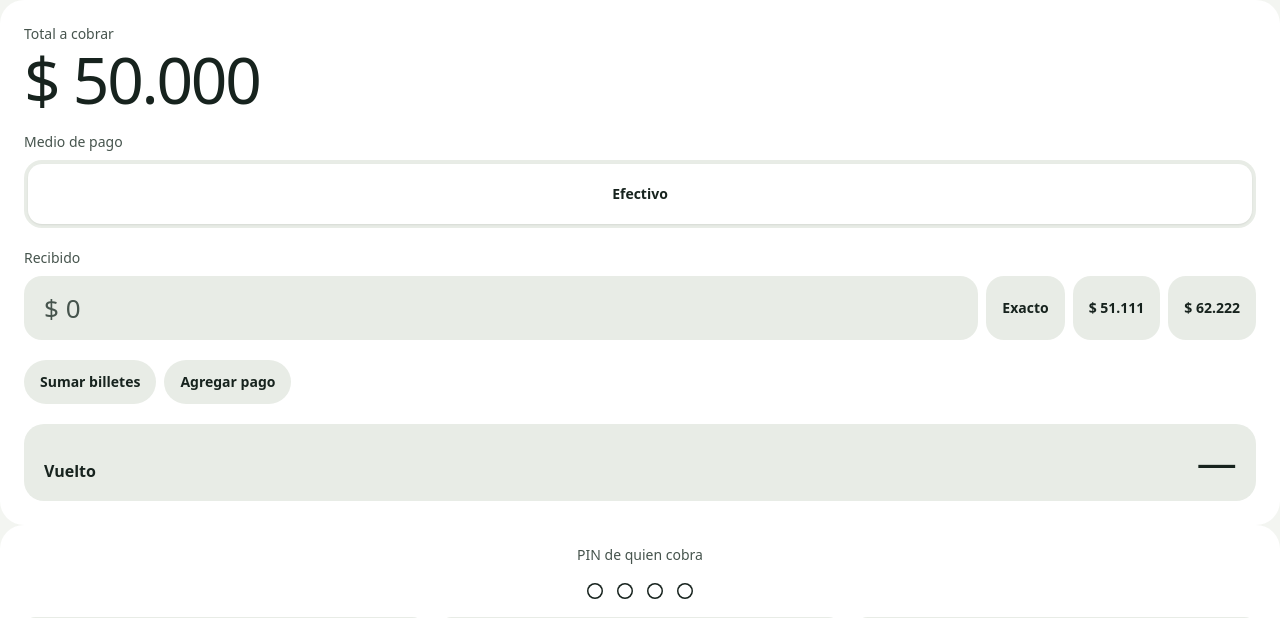
Test case: PaymentSplitsForm — el vuelto antes de cobrar › pinta el vuelto que calcula el servidor, sin hacer la cuenta en la pantalla
Click the button "Sumar billetes": [90, 382] box [24,360,156,404]
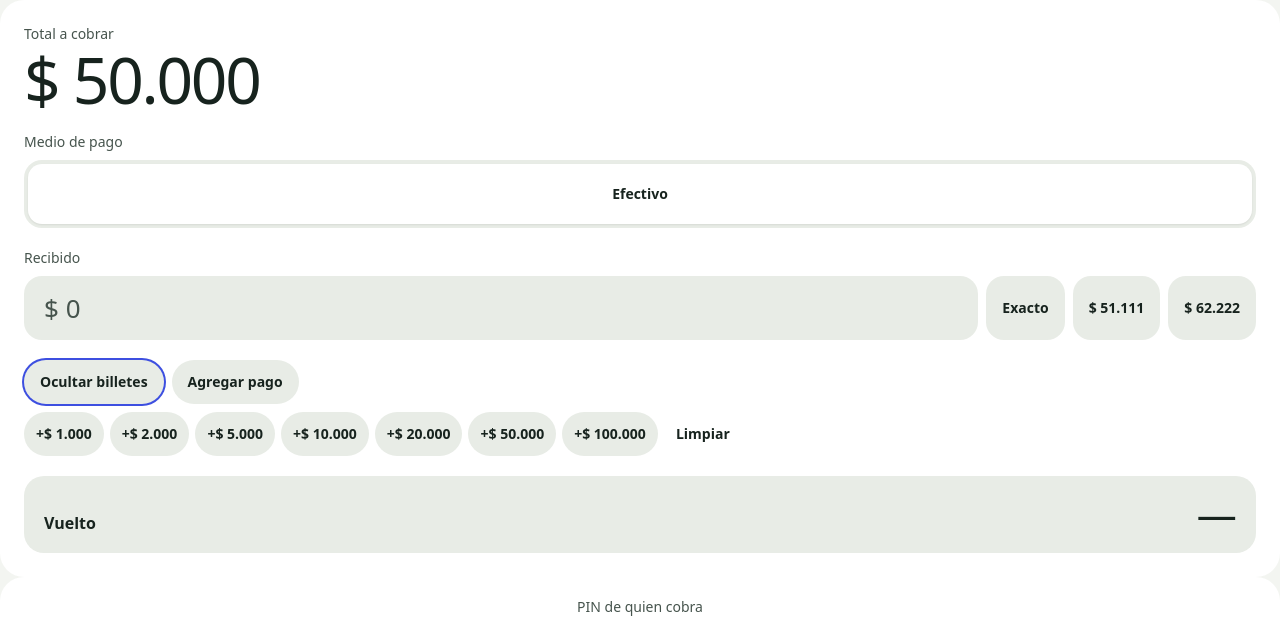
Click the button "+$ 100.000": [610, 434] box [562,412,658,456]
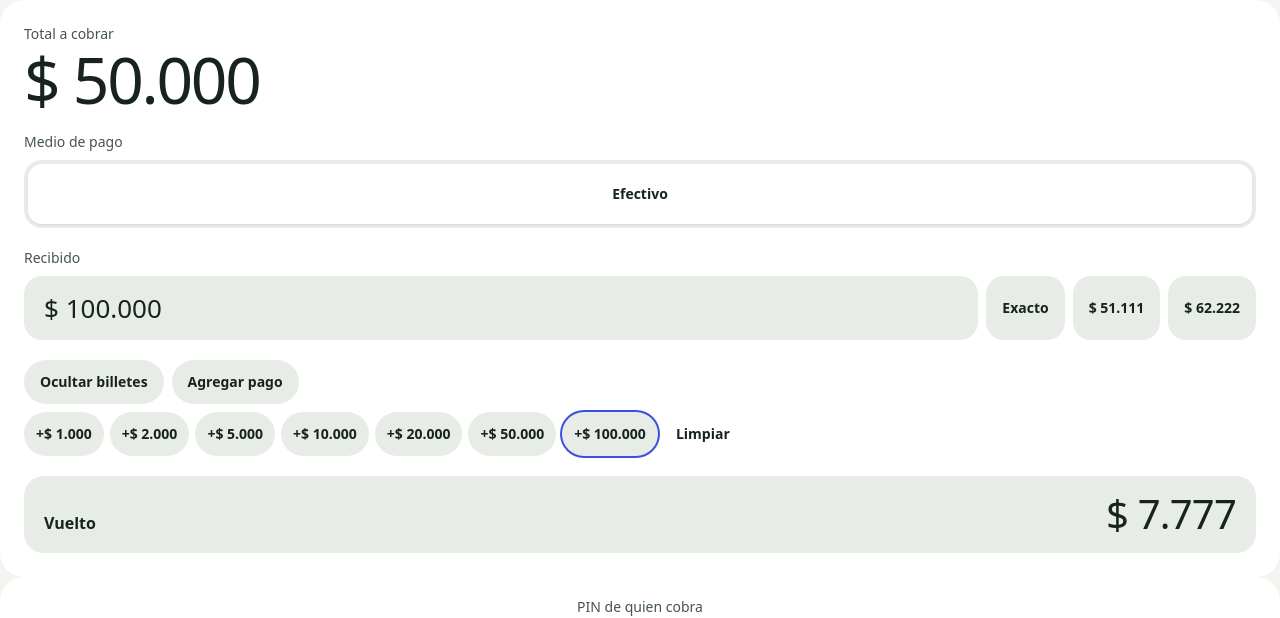
Expected: the text "Vuelto" is shown, [44,511,96,535]
Expected: the text "$ 7.777" is shown, [1106,494,1236,534]
